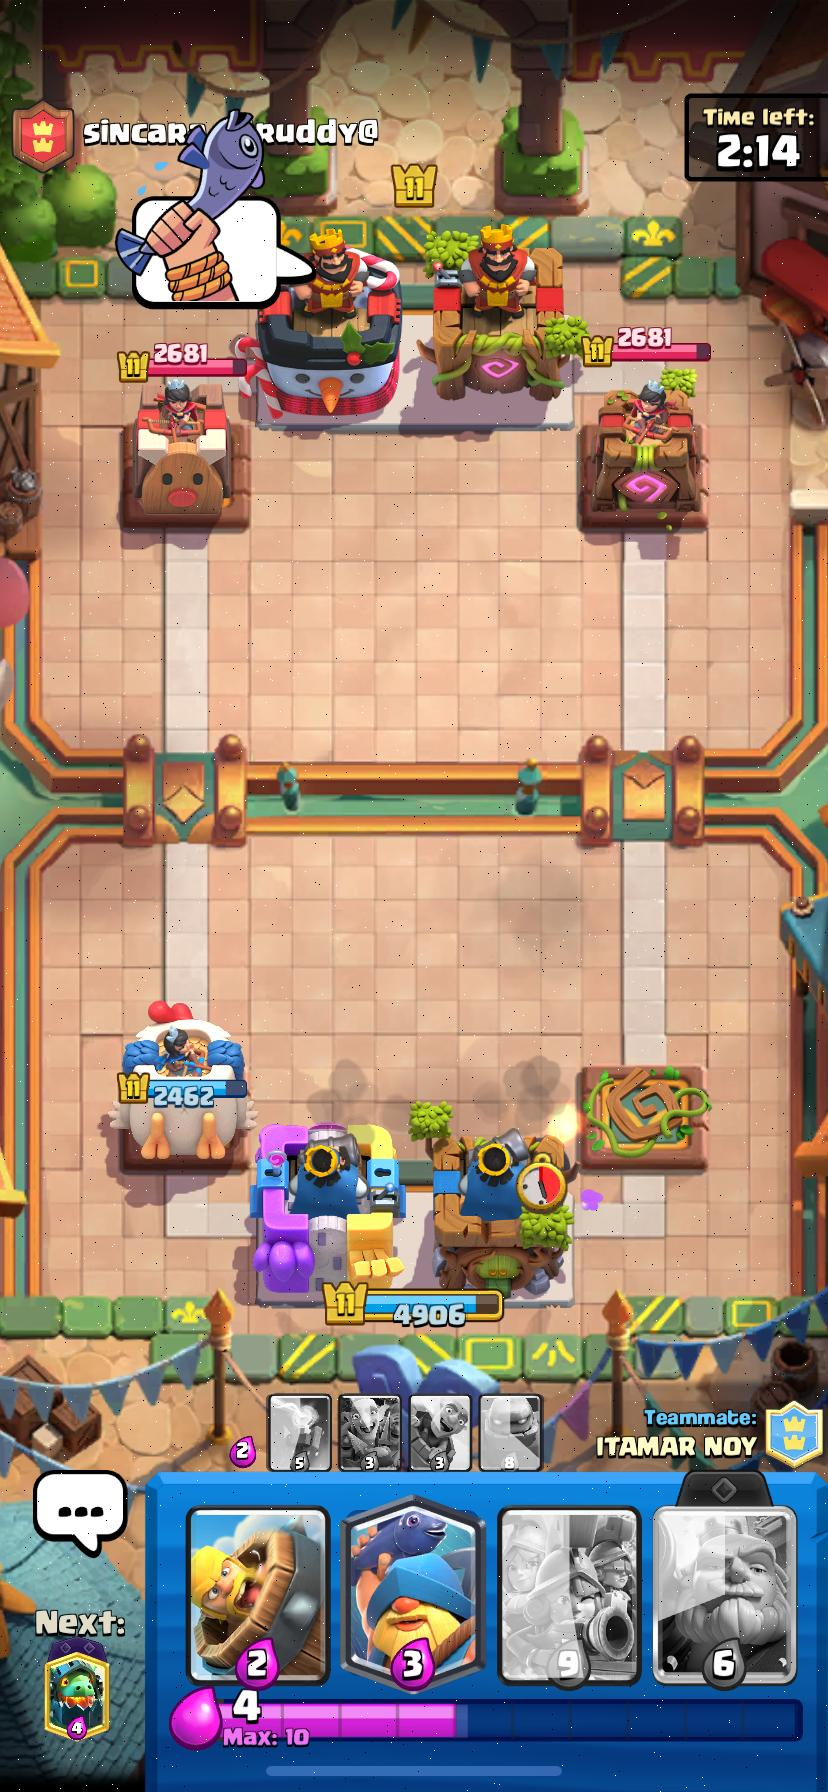EKingTower: (250, 230, 401, 423), (417, 225, 580, 401)
EnemyPrincessTower: (124, 379, 249, 528), (579, 386, 706, 529)
OwnKingTower: (250, 1121, 405, 1301), (433, 1129, 573, 1294)
OwnPrincessTower: (109, 1002, 255, 1161)
TowerDown: (580, 1065, 709, 1169)
